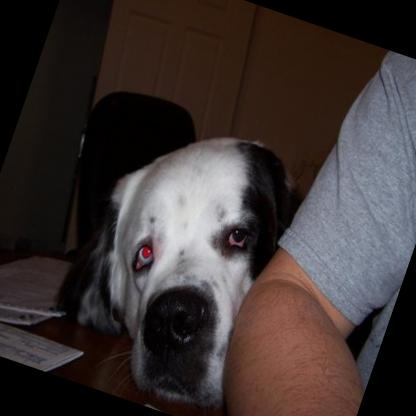Saint_Bernard: (35, 94, 308, 416)
